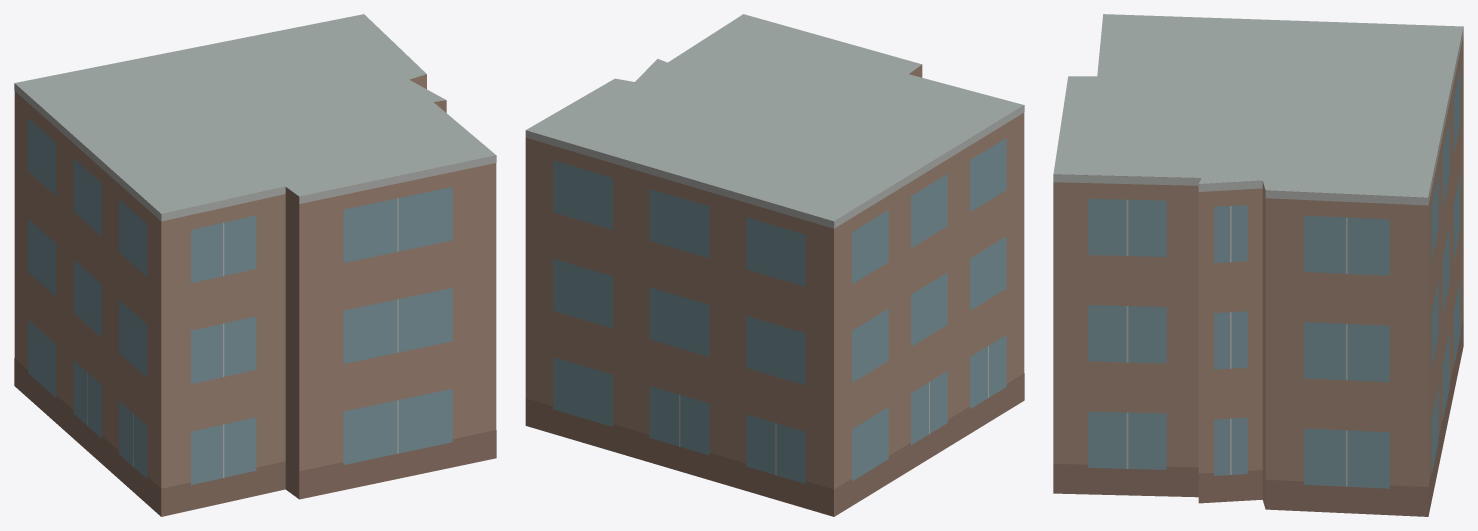
File: survey-upis-32537590.glb
The picture shows the model from 3 angles, left to right: view 1: azimuth 30°, elevation 25°; view 2: azimuth 150°, elevation 25°; view 3: azimuth 270°, elevation 25°; orthographic projection. The views are drawn at different scales.
Parts seen in each view (by area): view 1: survey-upis-32537590.tmp; view 2: survey-upis-32537590.tmp; view 3: survey-upis-32537590.tmp.
Part boxes in pixels (x1,y1,x2,y2): survey-upis-32537590.tmp: (14,14,496,516); survey-upis-32537590.tmp: (525,14,1024,516); survey-upis-32537590.tmp: (1053,14,1463,516).
Bounding box in the file's own units: 12.1 × 9.8 × 11.42.
